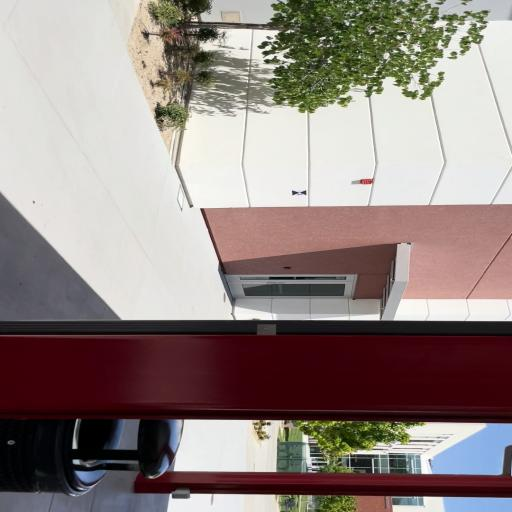target2: (292, 190, 307, 196)
